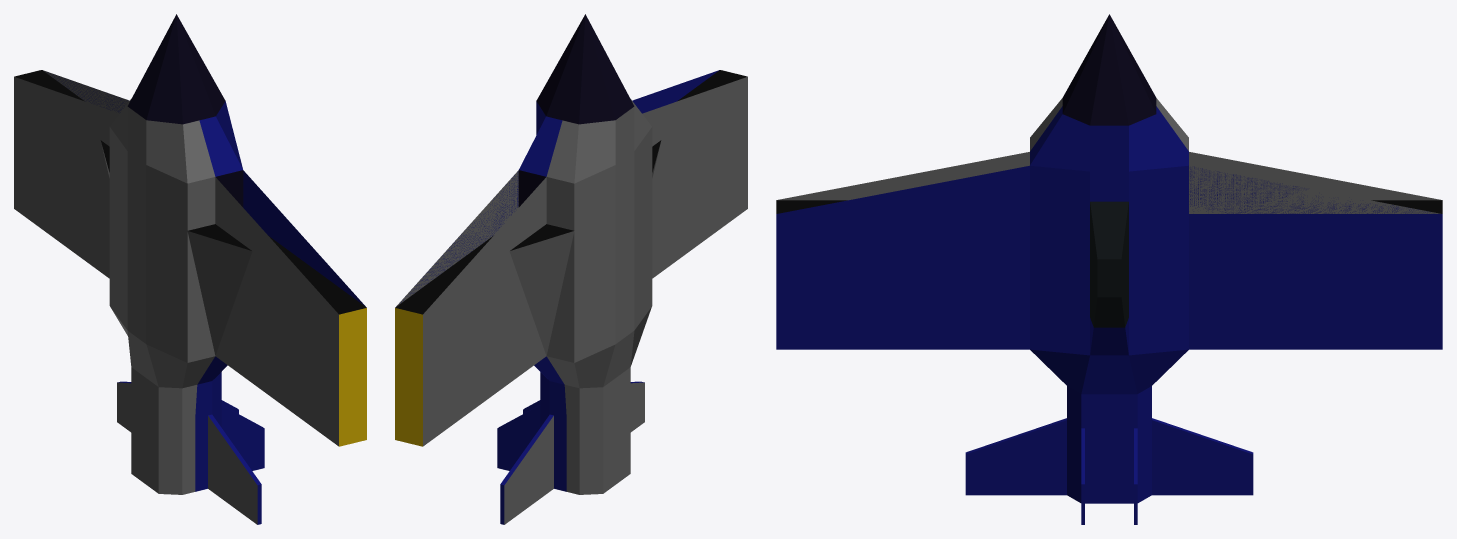
File: zealous_jay.obj
3 views of the same model, side by side, from view 1: azimuth 30°, elevation 25°; view 2: azimuth 150°, elevation 25°; view 3: azimuth 270°, elevation 25° (orthographic). The views are drawn at different scales.
Visible parts, largest first — view 1: Cone; view 2: Cone; view 3: Cone.
Part boxes in pixels (box(x1,y1,x2,y2)): Cone: box(14, 14, 366, 524); Cone: box(395, 14, 747, 524); Cone: box(776, 14, 1442, 524).
Size of the model in its own units: 2.66 by 10.64 by 13.14.
